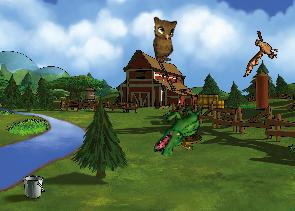crocodile: (151, 96, 206, 164)
eagle: (242, 30, 278, 77)
owl: (148, 13, 184, 64)
